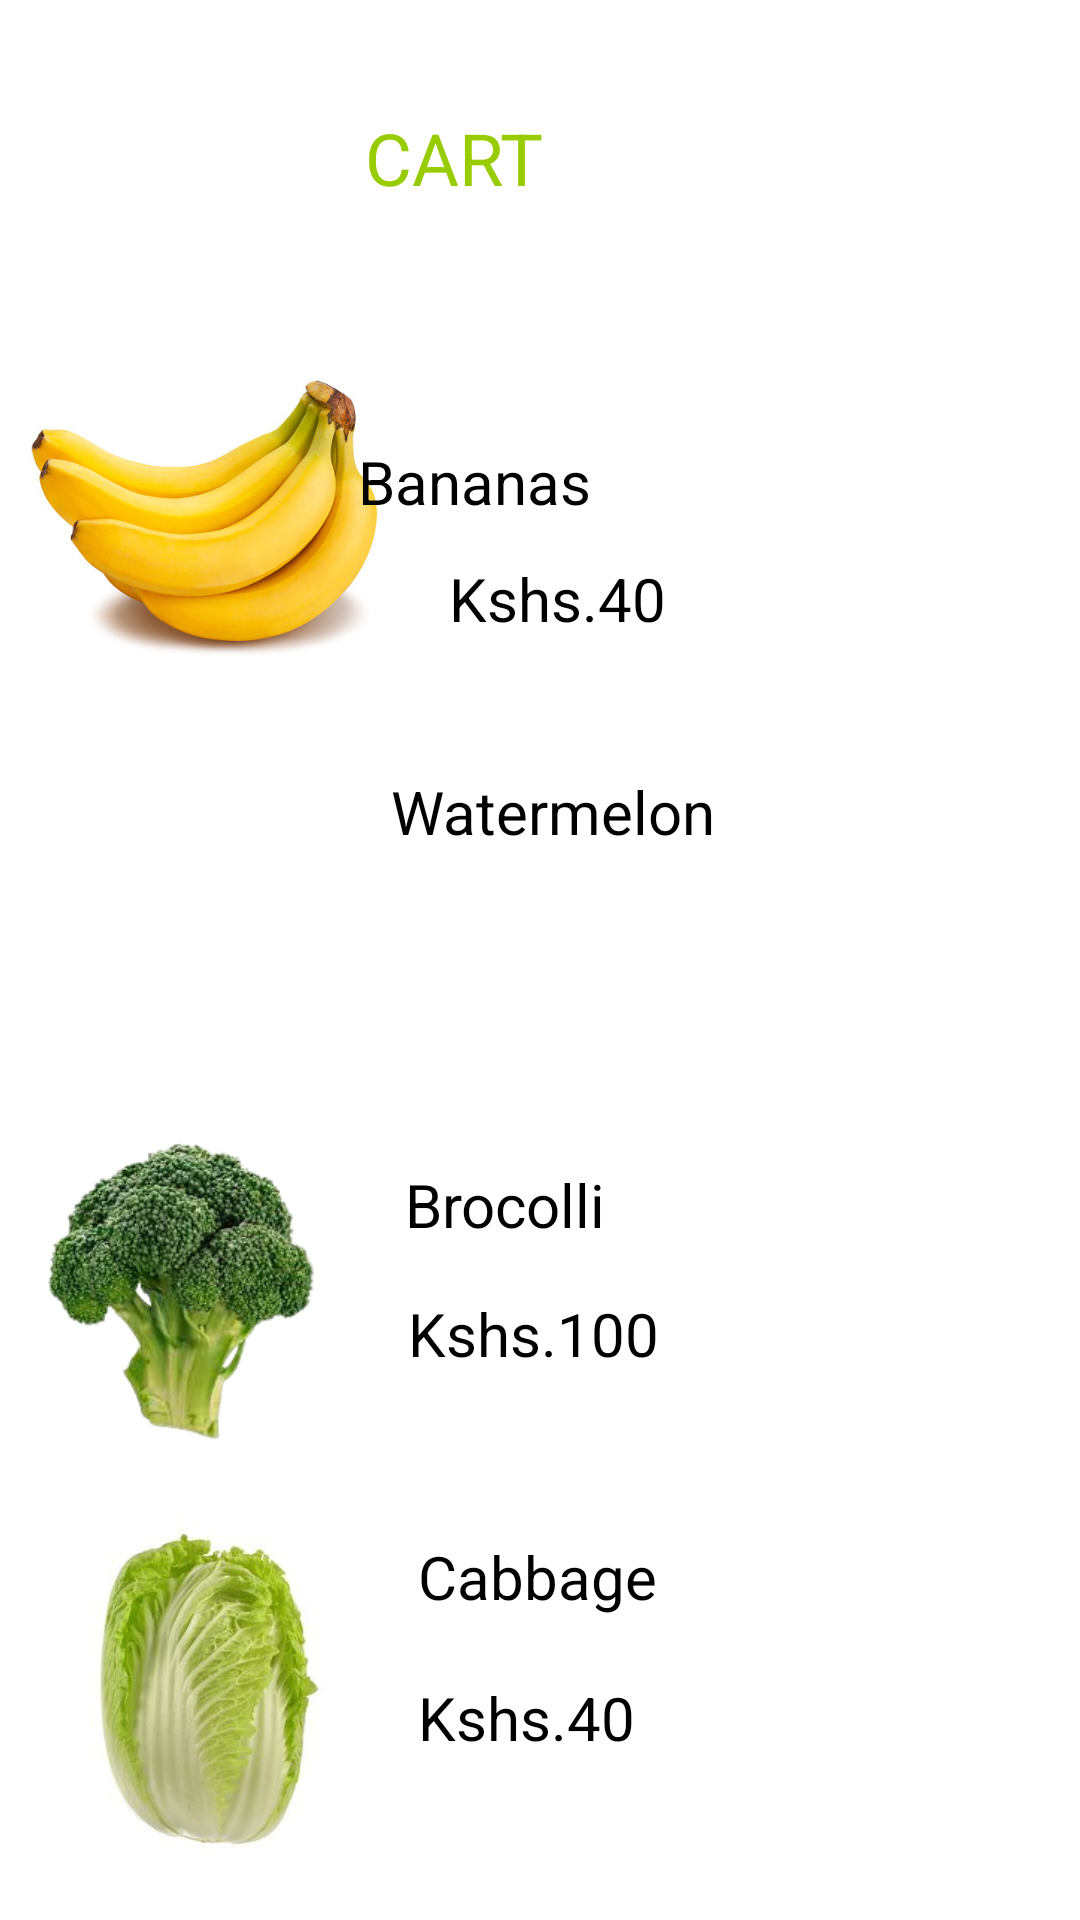

Where to tap for icons on this 1080 x 1920 app screen, as [x,y]:
brokoli: [181,1291]
